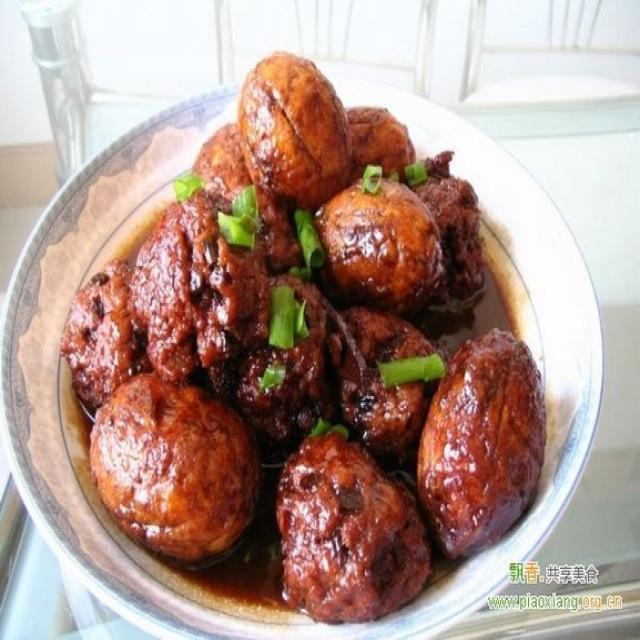猪肉菜式: (30, 41, 591, 628)
